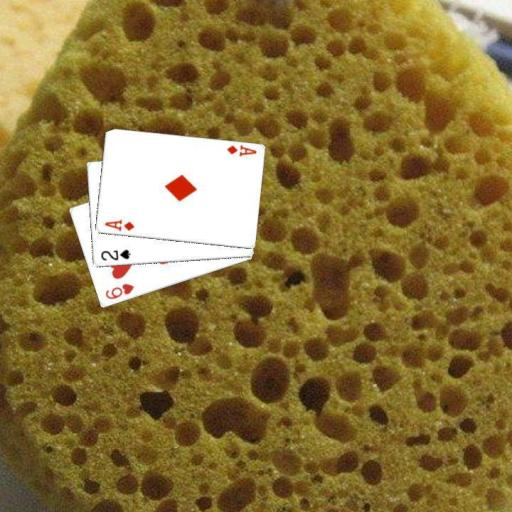card-corner: (102, 280, 135, 301), (224, 142, 258, 158), (98, 247, 132, 262), (102, 217, 136, 232)
